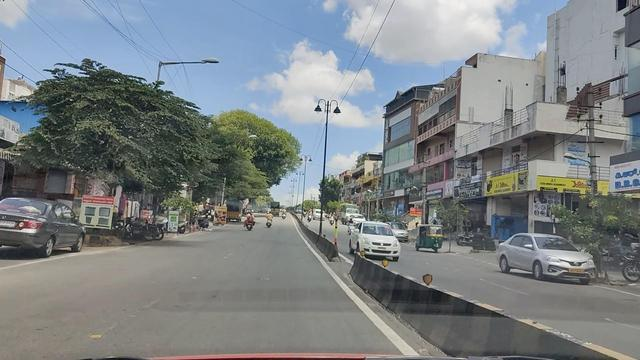LMV: (14, 198, 70, 249), (353, 220, 403, 259)
